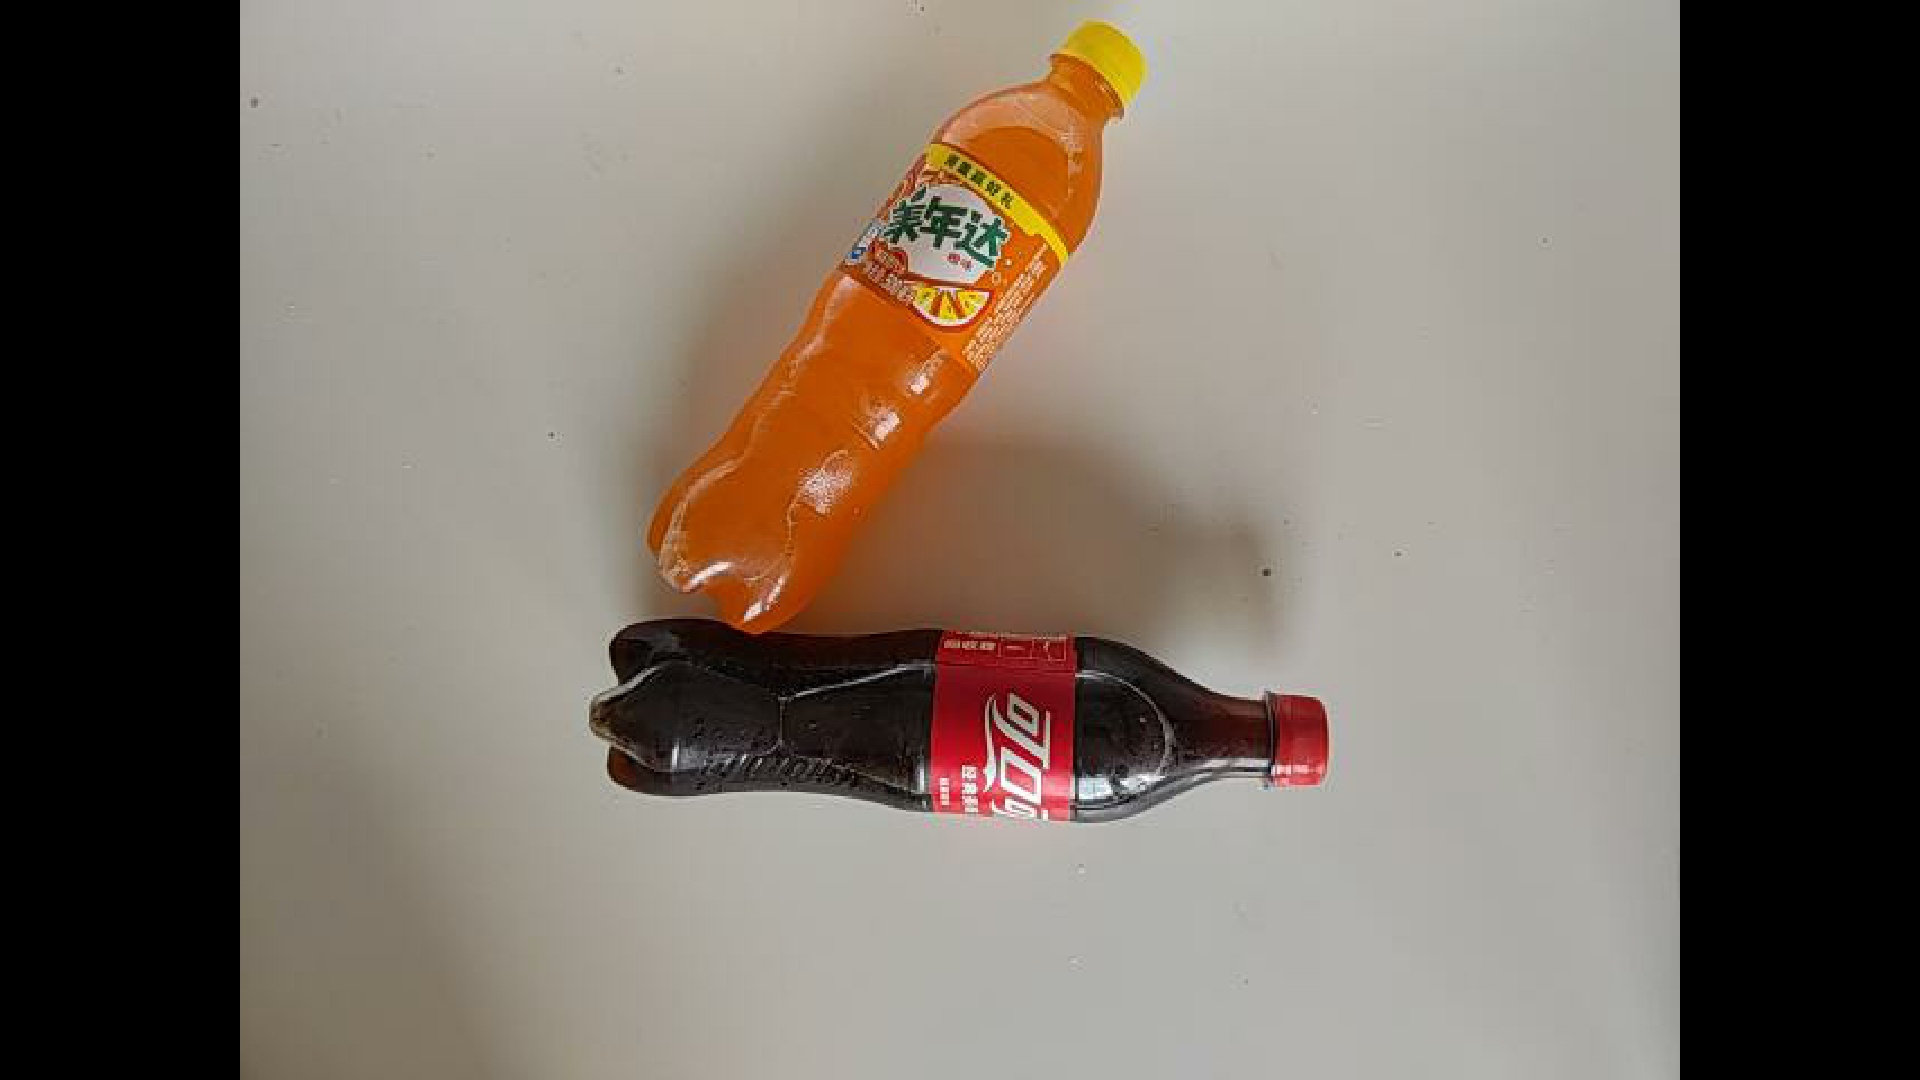cola: (574, 603, 1337, 820)
fenta: (647, 15, 1149, 636)
